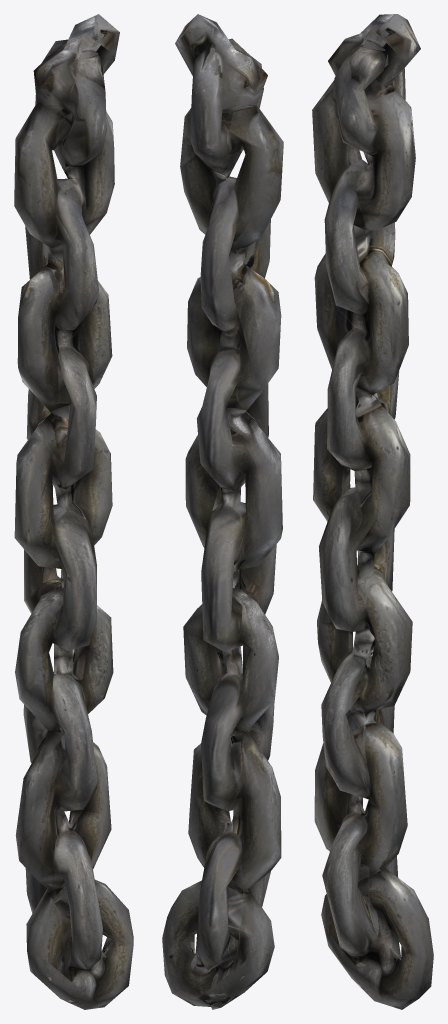
Rendered from Chain.fbx.
3 views of the same model, side by side, from view 1: azimuth 30°, elevation 25°; view 2: azimuth 150°, elevation 25°; view 3: azimuth 330°, elevation 25° (orthographic).
Visible parts, largest first — view 1: input; view 2: input; view 3: input.
Boxes of the visible parts, <box> form: input: <box>14,14,133,1009</box>; input: <box>162,14,283,1009</box>; input: <box>312,14,433,1009</box>.
Size of the model in its own units: 17.29 by 138 by 14.57.
Materials: 1 (1 with a texture image).
